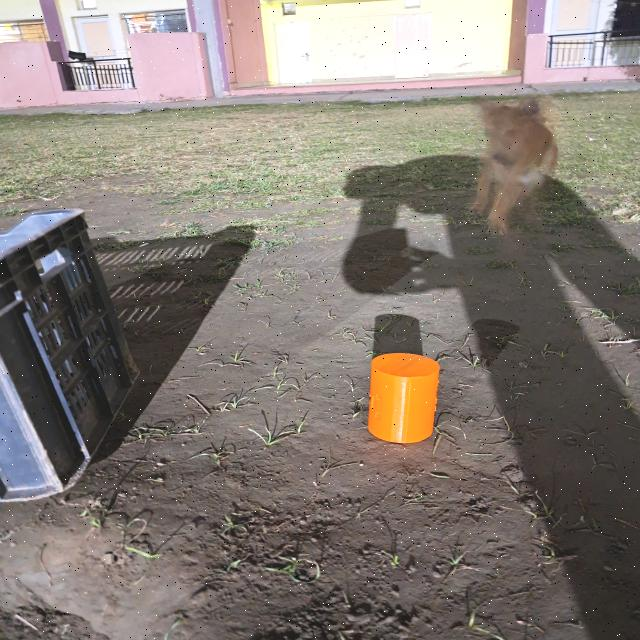Cylinder: (368, 352, 442, 444)
